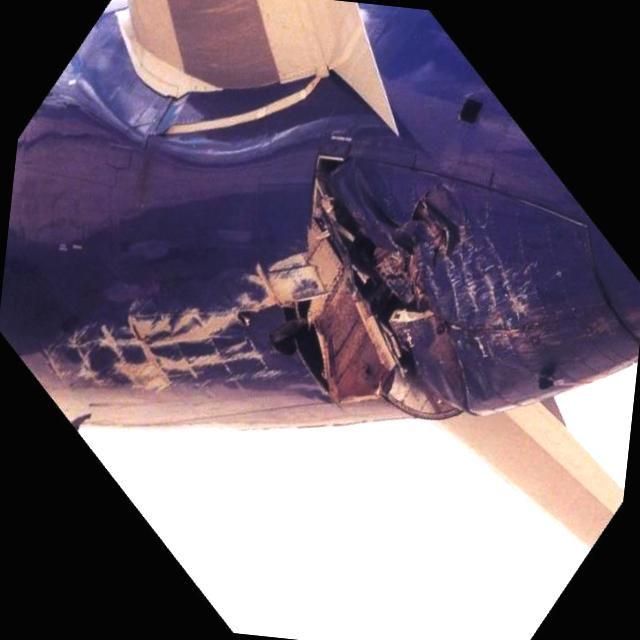crack: (260, 146, 470, 410)
